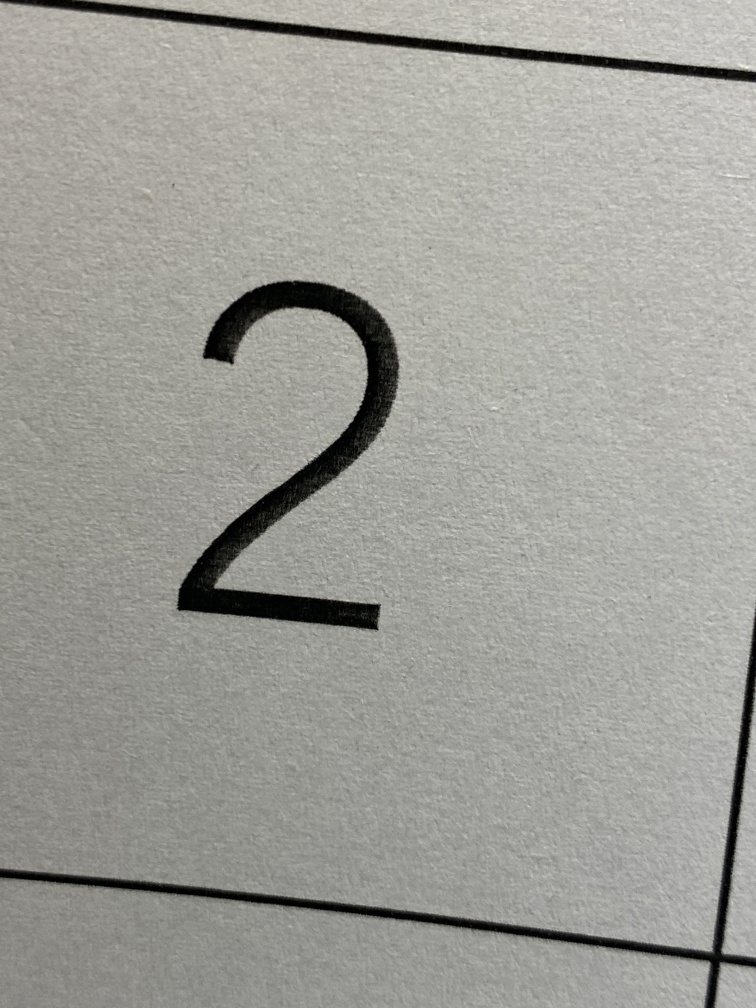two: (123, 221, 478, 714)
